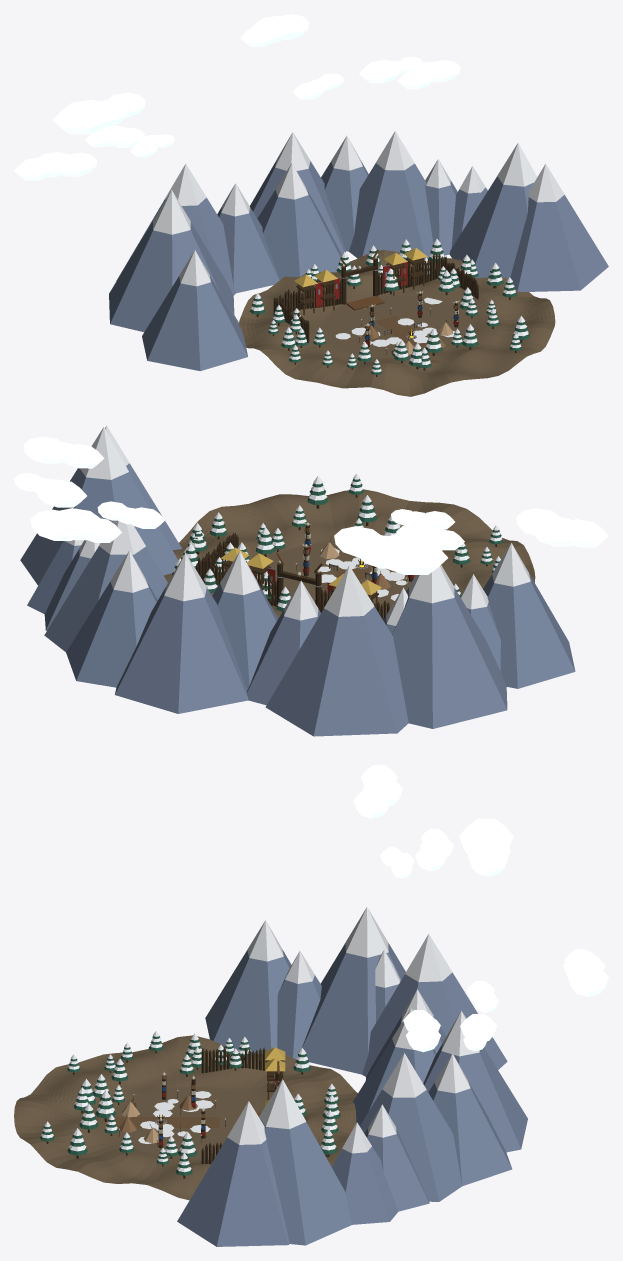
Rendered from terra-guerra.glb.
3 renders of one model, top to bottom at view 1: azimuth 30°, elevation 25°; view 2: azimuth 150°, elevation 25°; view 3: azimuth 270°, elevation 25°, orthographic. The views are drawn at different scales.
Parts seen in each view (by area): view 1: Montanhas, Terreno, Nuvens, Pinheiros, Paliçada, Torres, Portao, Neve, Estandartes; view 2: Montanhas, Nuvens, Terreno, Pinheiros, Paliçada, Torres, Neve, Portao, Totens; view 3: Montanhas, Terreno, Nuvens, Pinheiros, Paliçada, Neve, Tendas, Torres.
Boxes of the visible parts, box(x1,y1,x2,y2) form: Montanhas: box(109, 131, 608, 371); Terreno: box(239, 250, 555, 396); Nuvens: box(14, 14, 460, 180); Pinheiros: box(249, 239, 529, 376); Paliçada: box(273, 253, 478, 342); Torres: box(294, 248, 427, 315); Portao: box(340, 249, 384, 310); Neve: box(335, 297, 454, 346); Estandartes: box(315, 260, 407, 306); Montanhas: box(20, 425, 575, 736); Nuvens: box(14, 436, 608, 574); Terreno: box(164, 489, 535, 619); Pinheiros: box(172, 473, 503, 611); Paliçada: box(195, 532, 389, 619); Torres: box(220, 547, 381, 609); Neve: box(257, 548, 407, 600); Portao: box(276, 552, 323, 611); Totens: box(302, 522, 414, 583); Montanhas: box(177, 907, 527, 1246); Terreno: box(14, 1035, 357, 1200); Nuvens: box(353, 765, 608, 1052); Pinheiros: box(40, 1031, 340, 1178); Paliçada: box(201, 1047, 266, 1163); Neve: box(138, 1091, 213, 1143); Tendas: box(118, 1091, 197, 1143); Torres: box(265, 1047, 285, 1106).
Bounding box in the file's own units: 104 × 34.22 × 91.12.
